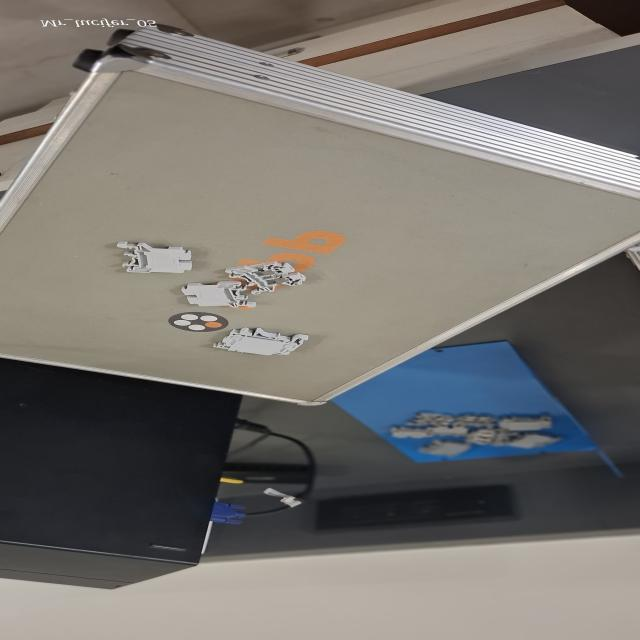Inverted: (177, 278, 266, 314), (116, 238, 198, 276)
Pass: (224, 261, 308, 295)
